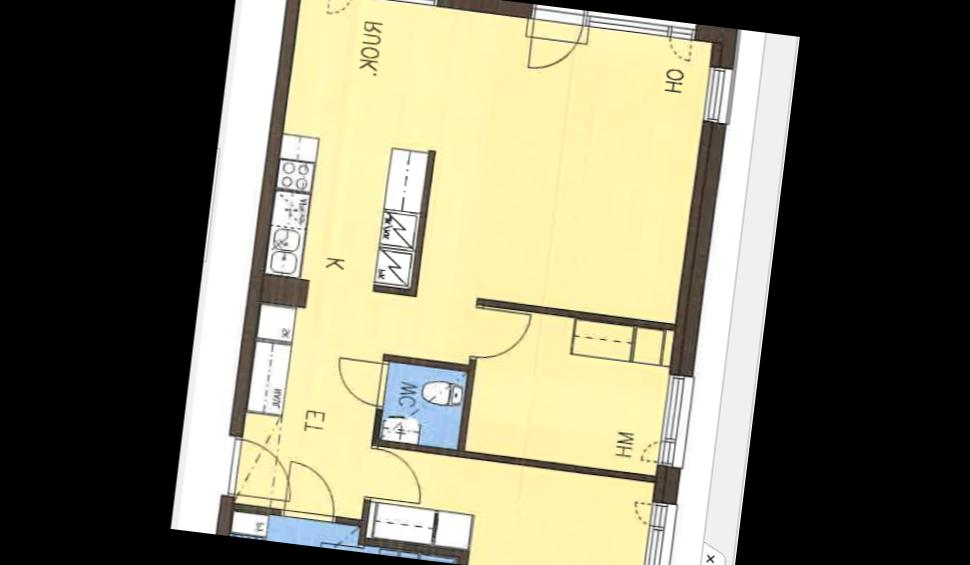door: (225, 436, 300, 504), (524, 8, 588, 80), (362, 443, 430, 508), (280, 456, 342, 526), (469, 304, 534, 367), (332, 352, 390, 407), (527, 3, 586, 26), (316, 534, 366, 552)
window: (652, 366, 698, 472), (583, 10, 699, 43), (637, 494, 682, 565), (697, 62, 740, 130), (323, 0, 442, 9)
